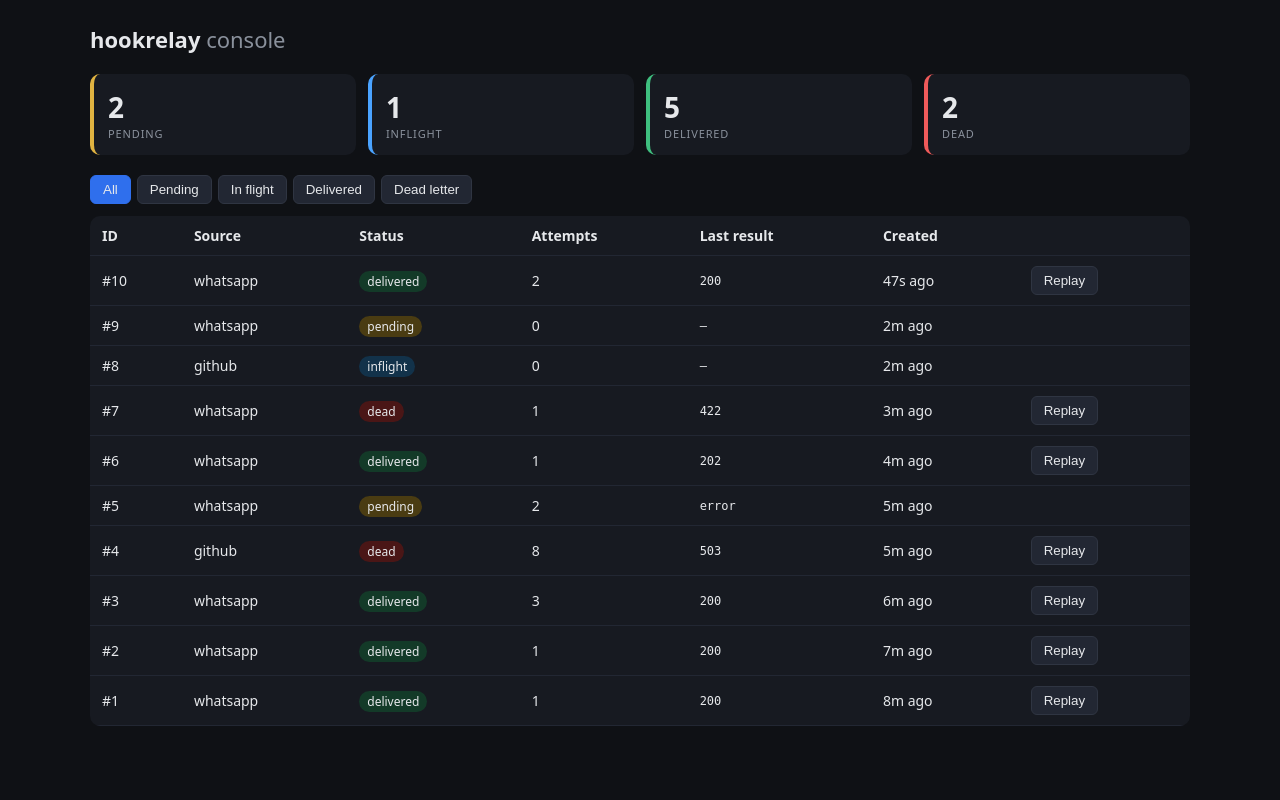
App › opens a detail drawer with pretty payload and last error
Click the row with test id "row-7" at [640, 410], box [90, 386, 1190, 436]
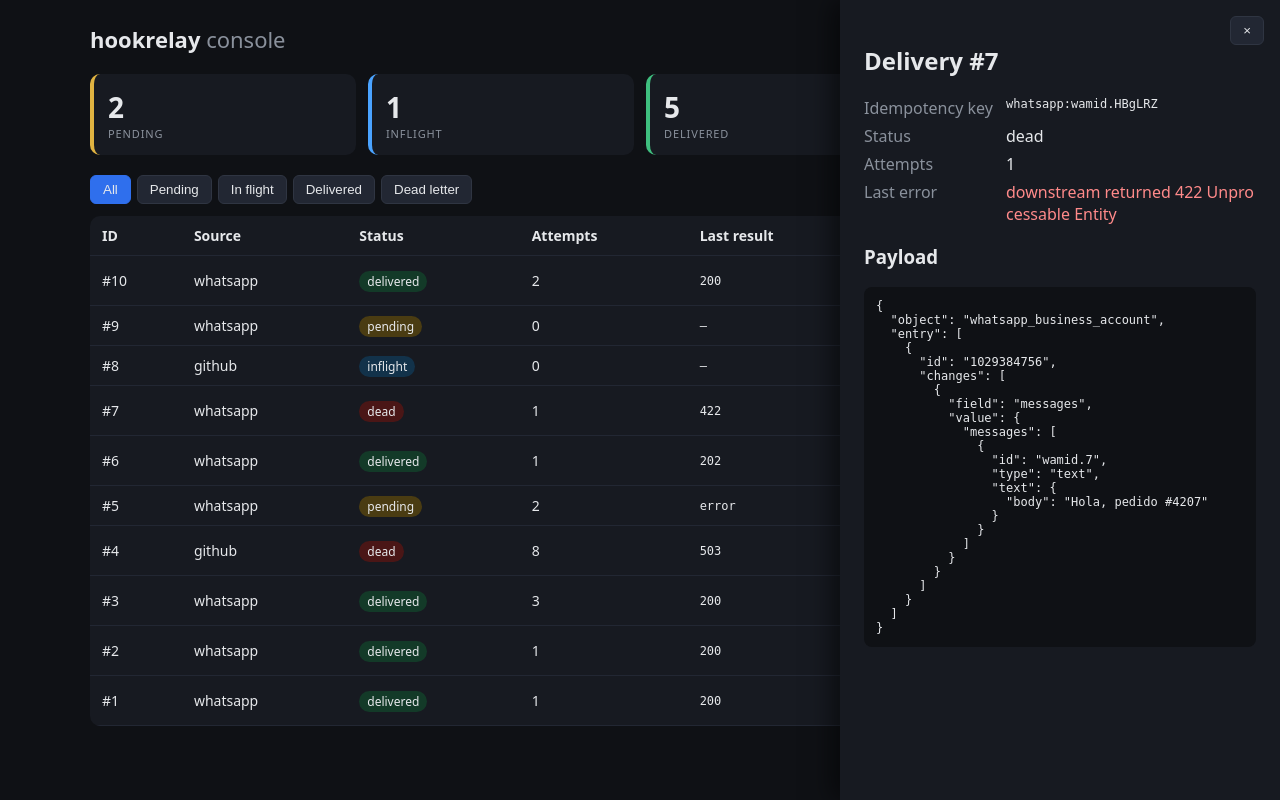
Now the text "downstream returned 422 Unprocessable Entity" is shown, box [1006, 181, 1256, 225]
Now the text "whatsapp_business_account" is shown, box [876, 299, 1208, 635]
